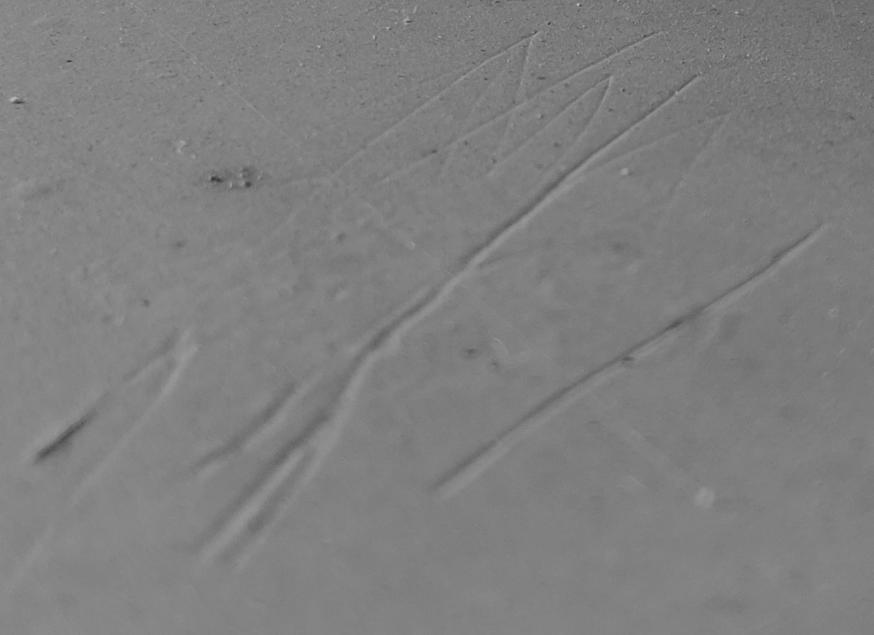scratch: (1, 1, 874, 635)
